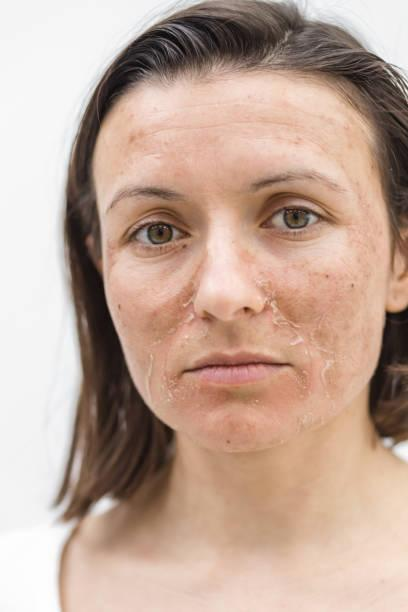Dry-Skin: (252, 237, 400, 385), (130, 97, 323, 168), (110, 265, 205, 395)
